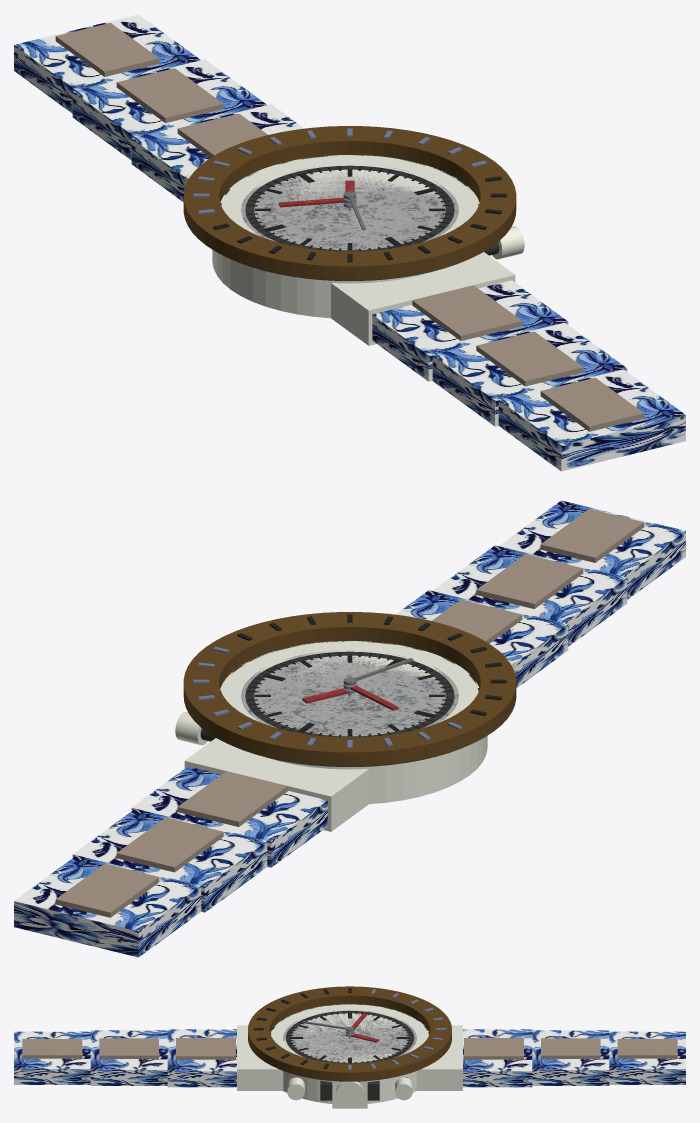
File: watch__2233.glb
3 views of the same model, one above another, from view 1: azimuth 30°, elevation 25°; view 2: azimuth 150°, elevation 25°; view 3: azimuth 270°, elevation 25° (orthographic). The views are drawn at different scales.
Visible parts, largest first — view 1: bezel::bezel_ring, case::case_body, case::dial_disc, bottom_strap_2::strap_body, bottom_strap_1::strap_body, top_strap_1::strap_body, bottom_strap_0::strap_body, top_strap_2::strap_body, case::bottom_lug_bridge, top_strap_0::strap_body, bottom_strap_0::center_panel, bottom_strap_1::center_panel (+5 smaller); view 2: bezel::bezel_ring, case::dial_disc, case::case_body, top_strap_2::strap_body, top_strap_1::strap_body, bottom_strap_1::strap_body, top_strap_0::strap_body, bottom_strap_2::strap_body, case::top_lug_bridge, bottom_strap_0::strap_body, top_strap_0::center_panel, bottom_strap_1::center_panel (+5 smaller); view 3: bezel::bezel_ring, case::case_body, case::dial_disc, bottom_strap_1::strap_body, top_strap_1::strap_body, bottom_strap_2::strap_body, top_strap_2::strap_body, bottom_strap_0::strap_body, top_strap_0::strap_body, case::bottom_lug_bridge, case::top_lug_bridge, bottom_strap_0::center_panel (+13 smaller).
Part boxes in pixels (x1,y1,x2,y2): bezel::bezel_ring: (183,126,516,280); case::case_body: (212,155,479,318); case::dial_disc: (241,166,458,250); bottom_strap_2::strap_body: (498,369,685,471); bottom_strap_1::strap_body: (432,322,627,426); top_strap_1::strap_body: (72,59,266,160); bottom_strap_0::strap_body: (372,280,568,381); top_strap_2::strap_body: (14,14,200,113); case::bottom_lug_bridge: (331,252,515,345); top_strap_0::strap_body: (131,104,304,201); bottom_strap_0::center_panel: (412,285,522,340); bottom_strap_1::center_panel: (476,331,583,386); bezel::bezel_ring: (183,612,516,766); case::dial_disc: (241,650,458,736); case::case_body: (220,641,487,804); top_strap_2::strap_body: (14,855,201,957); top_strap_1::strap_body: (72,808,267,912); bottom_strap_1::strap_body: (433,545,627,646); top_strap_0::strap_body: (131,766,327,867); bottom_strap_2::strap_body: (499,500,685,599); case::top_lug_bridge: (184,738,368,831); bottom_strap_0::strap_body: (395,590,568,687); top_strap_0::center_panel: (177,771,287,826); bottom_strap_1::center_panel: (476,554,583,608); bezel::bezel_ring: (248,986,451,1081); case::case_body: (271,1004,428,1103); case::dial_disc: (283,1010,416,1062); bottom_strap_1::strap_body: (90,1030,167,1085); top_strap_1::strap_body: (532,1030,609,1085); bottom_strap_2::strap_body: (14,1031,90,1084); top_strap_2::strap_body: (609,1031,685,1084); bottom_strap_0::strap_body: (167,1029,236,1087); top_strap_0::strap_body: (463,1029,532,1087); case::bottom_lug_bridge: (237,1025,283,1090); case::top_lug_bridge: (416,1025,462,1090); bottom_strap_0::center_panel: (176,1038,235,1059).
Size of the model in its own units: 0.0578 by 0.0134 by 0.1901.
Materials: 11 (10 with a texture image).
